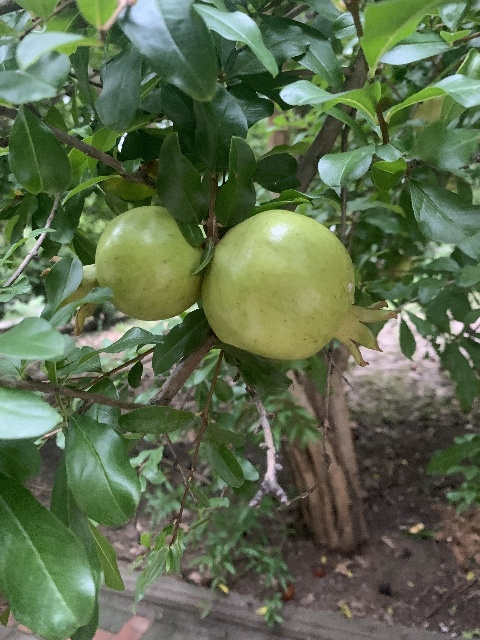mid-growth: (202, 209, 397, 366), (40, 205, 203, 334)
